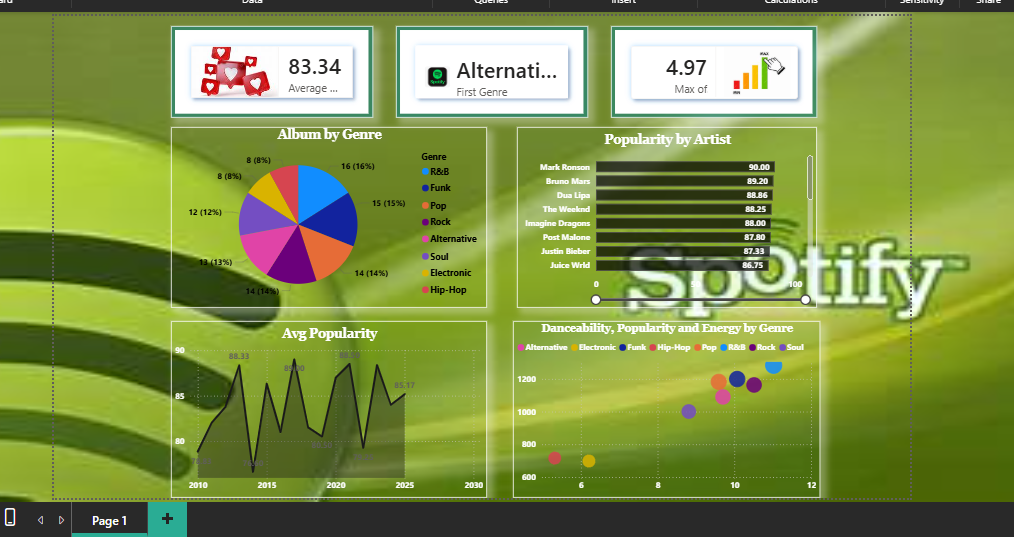

What the dashboard file says about the page in this screenshot:
{"tool":"powerbi","page":{"name":"Page 1","canvas":[1280,720],"ordinal":0},"visuals":[{"type":"clusteredBarChart","title":" Popularity by Artist","fields":{"Category":["cleaned_spotyfy_playlist.Artist"],"Y":["Avg(cleaned_spotyfy_playlist.Popularity)"]},"box":[691.6,165.8,448.1,270.4],"z":0},{"type":"pieChart","title":"Album by Genre","fields":{"Category":["cleaned_spotyfy_playlist.Genre"],"Y":["CountNonNull(cleaned_spotyfy_playlist.Album)"]},"box":[174.8,165.8,472,270.4],"z":1000},{"type":"lineChart","title":"Avg Popularity","fields":{"Category":["cleaned_spotyfy_playlist.Release_Year"],"Y":["Avg(cleaned_spotyfy_playlist.Popularity)"]},"box":[174.8,455.6,472,264.4],"z":2000},{"type":"scatterChart","title":"Danceability, Popularity and Energy by Genre","fields":{"X":["Sum(cleaned_spotyfy_playlist.Danceability)"],"Y":["Sum(cleaned_spotyfy_playlist.Popularity)"],"Series":["cleaned_spotyfy_playlist.Genre"],"Size":["Sum(cleaned_spotyfy_playlist.Energy)"]},"box":[685.6,455.6,458.6,264.4],"z":3000},{"type":"cardVisual","fields":{"Data":["Avg(cleaned_spotyfy_playlist.Popularity)"]},"box":[174.8,14.9,301.7,137.4],"z":4000},{"type":"cardVisual","fields":{"Data":["Min(cleaned_spotyfy_playlist.Genre)"]},"box":[510.9,14.9,286.8,137.4],"z":5000},{"type":"cardVisual","fields":{"Data":["Max(cleaned_spotyfy_playlist.Duration_min)"]},"box":[832,14.9,307.7,137.4],"z":6000}]}

Visuals, with their boxes on the page's 1280x720 design canvas (x1, y1, x2, y2). These are canvas units, not pixel positions in the 1014x537 screenshot, which may show the page scaled, cropped or inside an application window:
" Popularity by Artist" clusteredBarChart: x1=692 y1=166 x2=1140 y2=436
"Album by Genre" pieChart: x1=175 y1=166 x2=647 y2=436
"Avg Popularity" lineChart: x1=175 y1=456 x2=647 y2=720
"Danceability, Popularity and Energy by Genre" scatterChart: x1=686 y1=456 x2=1144 y2=720
cardVisual - Avg(cleaned_spotyfy_playlist.Popularity): x1=175 y1=15 x2=476 y2=152
cardVisual - Min(cleaned_spotyfy_playlist.Genre): x1=511 y1=15 x2=798 y2=152
cardVisual - Max(cleaned_spotyfy_playlist.Duration_min): x1=832 y1=15 x2=1140 y2=152
